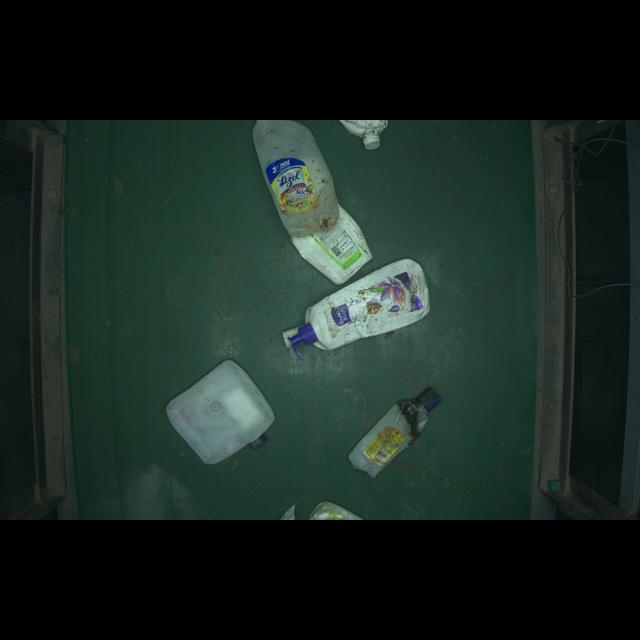mix PET: (145, 353, 288, 484), (259, 262, 453, 349), (344, 372, 455, 490), (241, 122, 354, 229)
